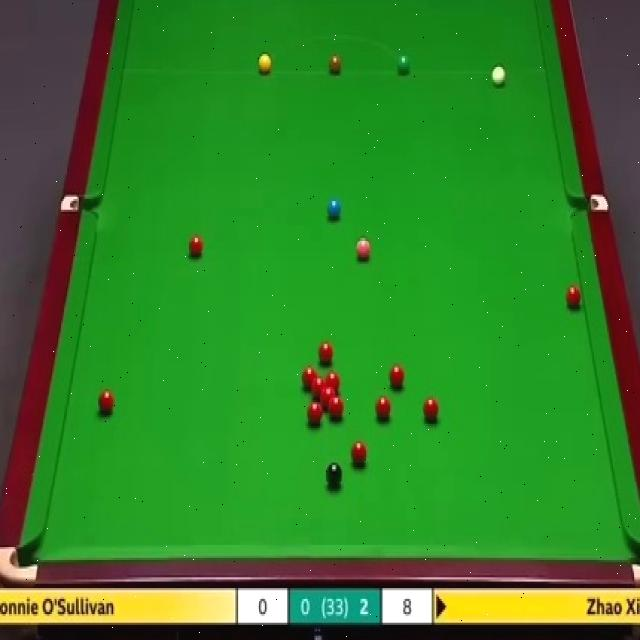black-ball: (324, 461, 342, 489)
blue-ball: (327, 197, 341, 224)
brown-ball: (328, 54, 342, 74)
green-ball: (397, 55, 411, 74)
pink-ball: (354, 238, 372, 262)
red-ball: (420, 396, 441, 425), (387, 361, 405, 393), (375, 395, 392, 426), (352, 438, 368, 469), (98, 389, 114, 417), (324, 370, 341, 396), (566, 284, 581, 312), (318, 342, 334, 368), (189, 233, 204, 260), (307, 402, 322, 428), (328, 396, 344, 420), (310, 374, 324, 400), (301, 364, 316, 388), (321, 387, 336, 409)
white-ball: (489, 65, 508, 88)
yellow-ball: (257, 54, 272, 74)
